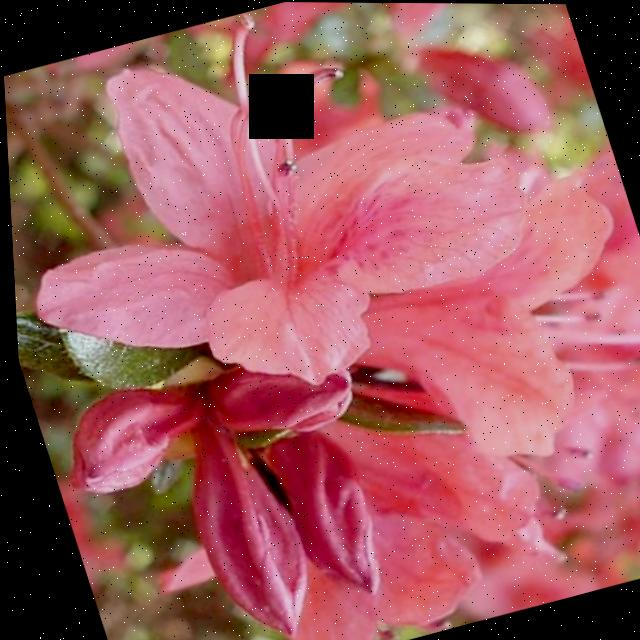azalea: (13, 0, 557, 417)
